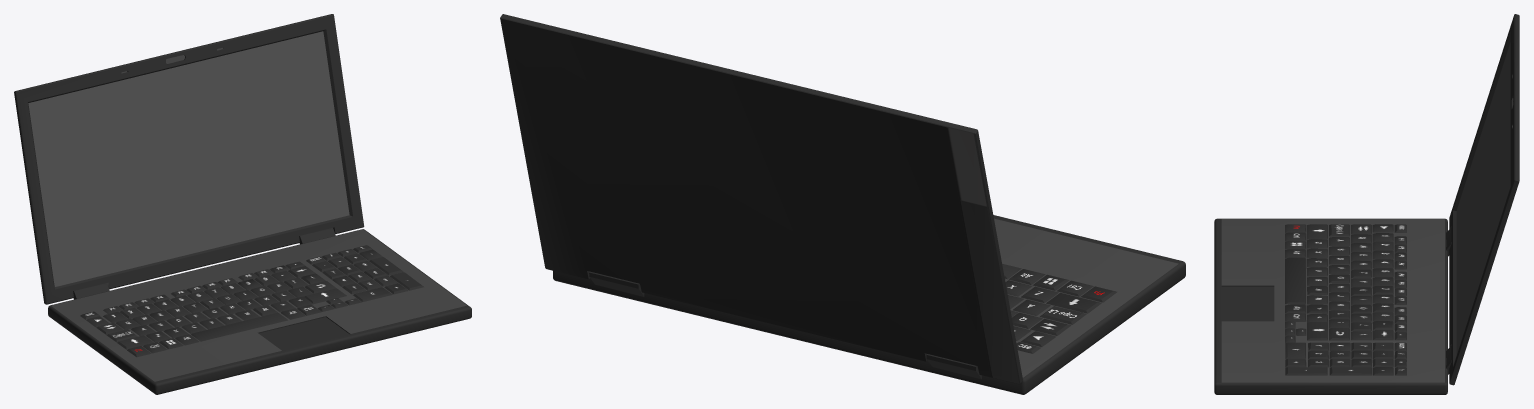
File: Laptop.FBX
The picture shows the model from 3 angles, left to right: view 1: azimuth 30°, elevation 25°; view 2: azimuth 150°, elevation 25°; view 3: azimuth 270°, elevation 25°; orthographic projection. The views are drawn at different scales.
Parts seen in each view (by area): view 1: Laptop; view 2: Laptop; view 3: Laptop.
Boxes of the visible parts, <box> form: Laptop: <box>14,14,471,394</box>; Laptop: <box>500,14,1185,394</box>; Laptop: <box>1214,14,1519,394</box>.
Size of the model in its own units: 46.54 by 28.18 by 36.
Materials: 2 (1 with a texture image).
